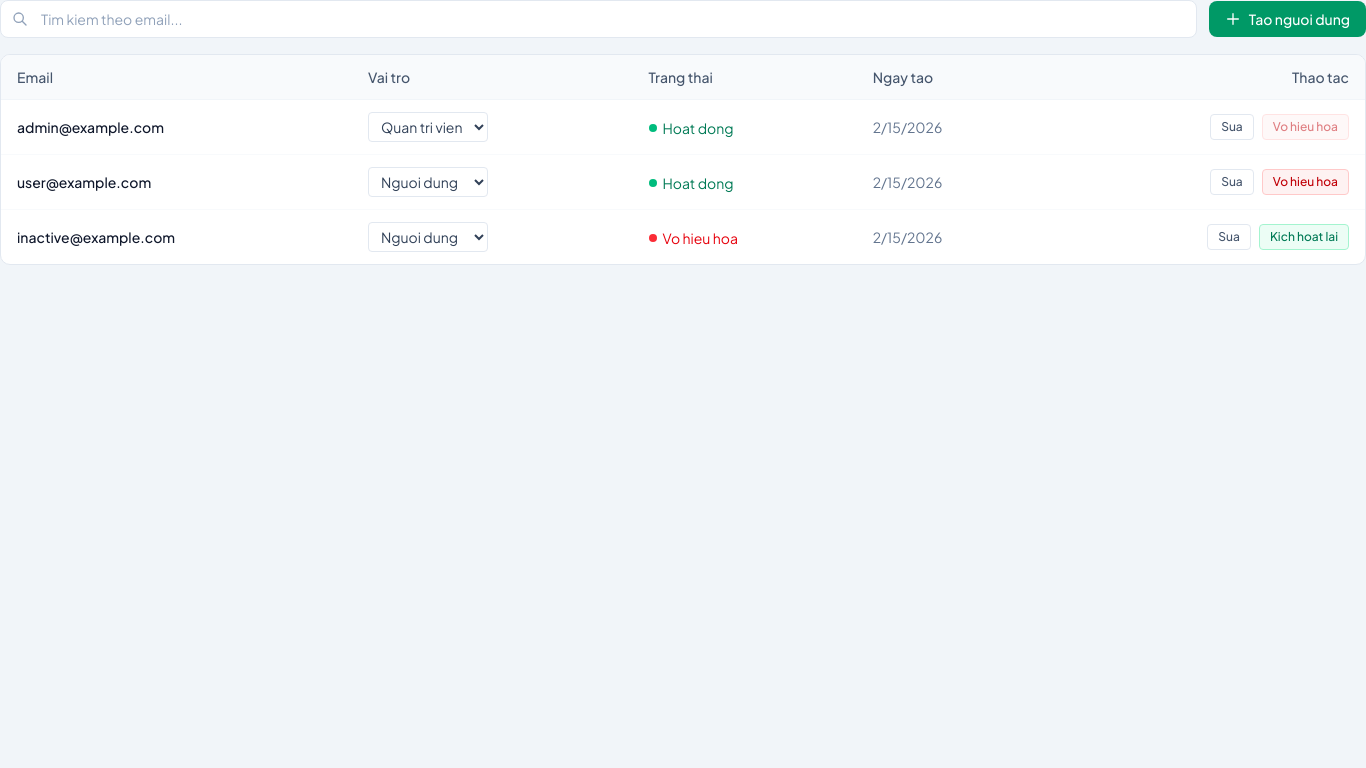
Test: UserList › create user button opens form
Check: the text "admin@example.com" is shown, box x1=1 y1=100 x2=352 y2=154
What coordinates should you click on to do the following:
click the button "Tao nguoi dung"
I would click on:
 (1287, 19)
Its box is x1=1209 y1=1 x2=1365 y2=37.
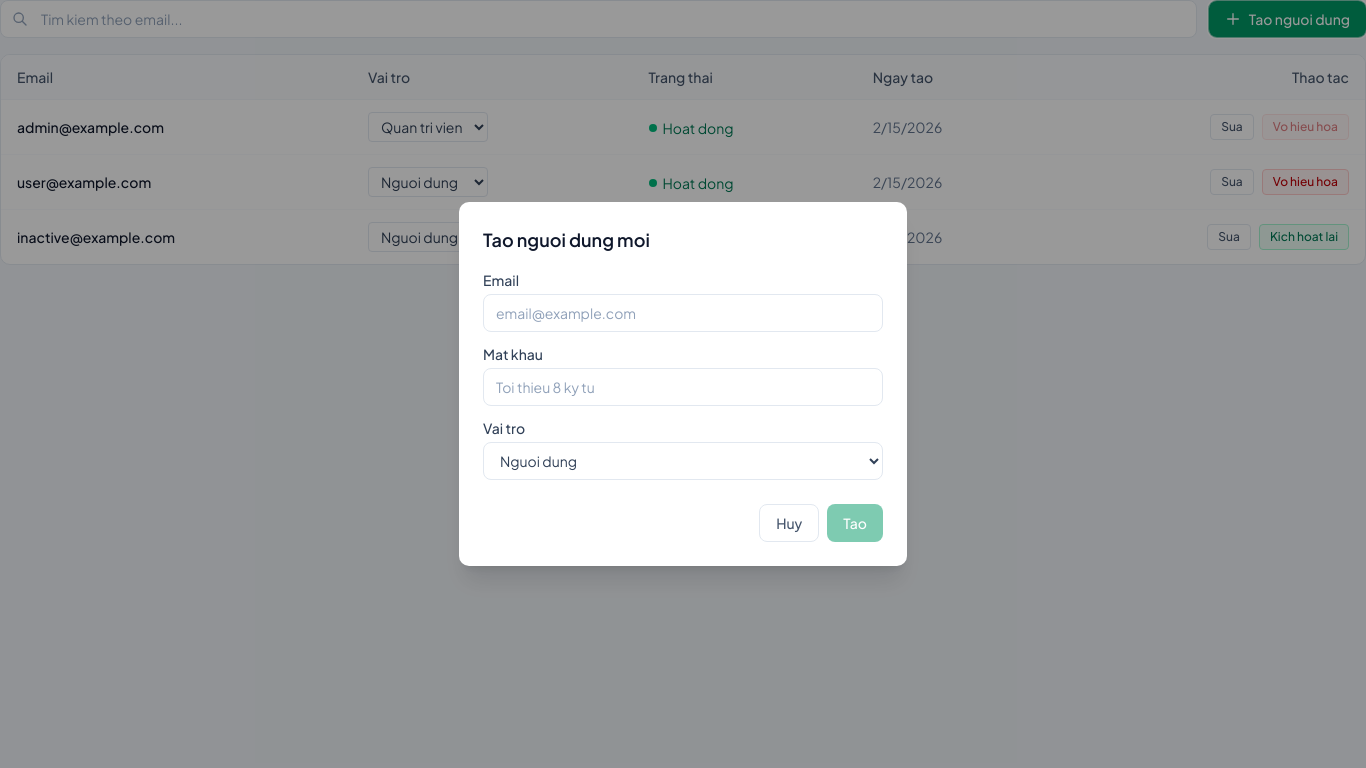
Check: the heading "Tao nguoi dung moi" is shown, box x1=483 y1=228 x2=650 y2=251
Check: the field with placeholder "email@example.com" is shown, box x1=483 y1=294 x2=883 y2=332
Check: the password field with placeholder "Toi thieu 8 ky tu" is shown, box x1=483 y1=368 x2=883 y2=406
